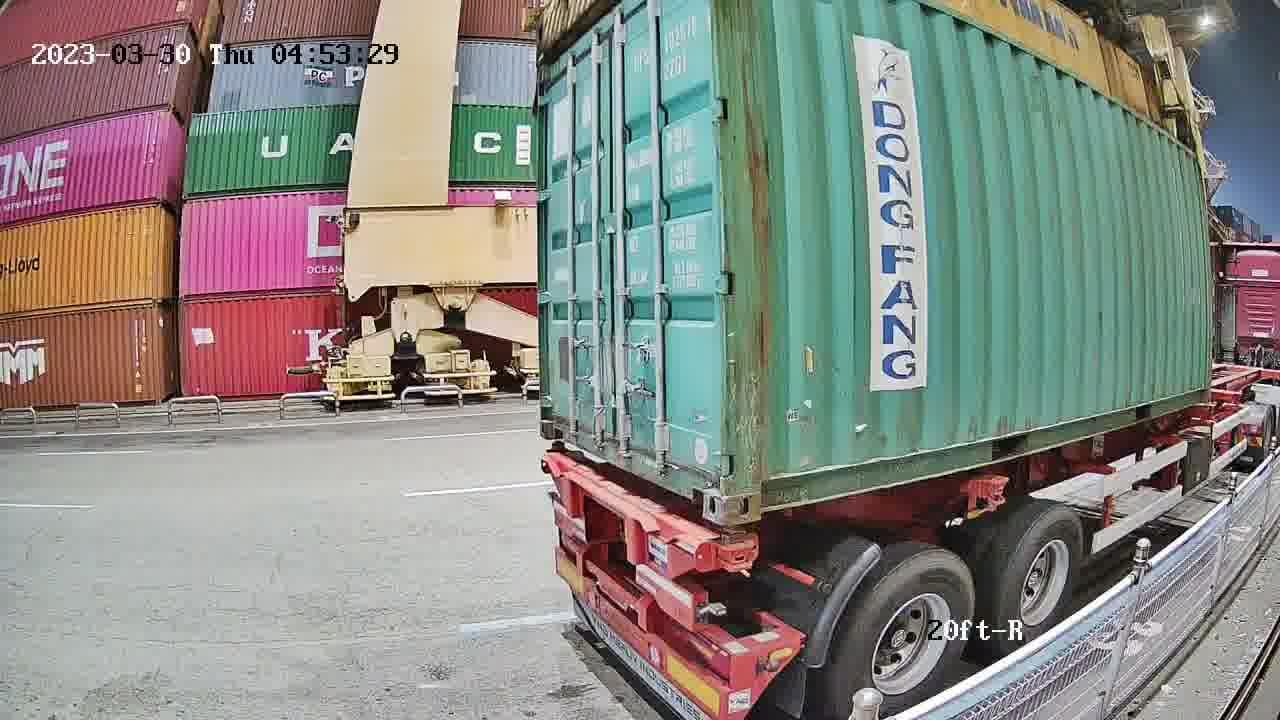Chassis: (546, 451, 735, 579)
Cone: (718, 530, 753, 575)
Hole_L: (725, 454, 788, 524), (540, 401, 571, 443)
Hole_R: (683, 459, 724, 524)
Tire: (843, 551, 975, 719), (998, 510, 1082, 654)
